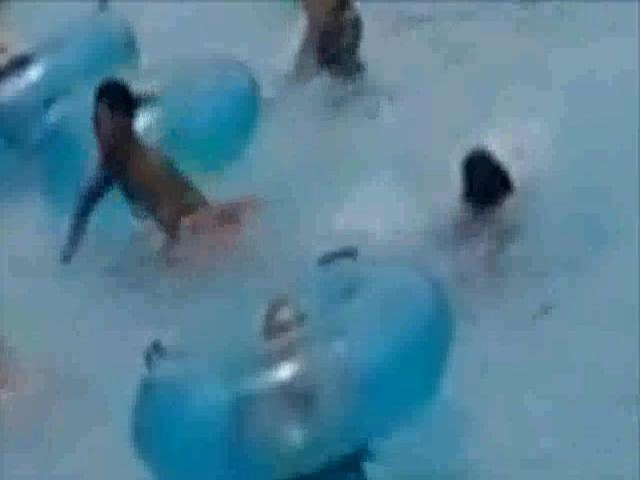drowning: (371, 110, 577, 246)
swimming: (43, 78, 260, 273)
